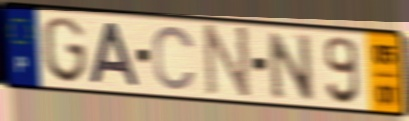9: (323, 34, 362, 108)
A: (87, 20, 142, 89)
C: (151, 23, 199, 93)
G: (40, 15, 90, 86)
N: (203, 22, 252, 103), (264, 29, 317, 103)
